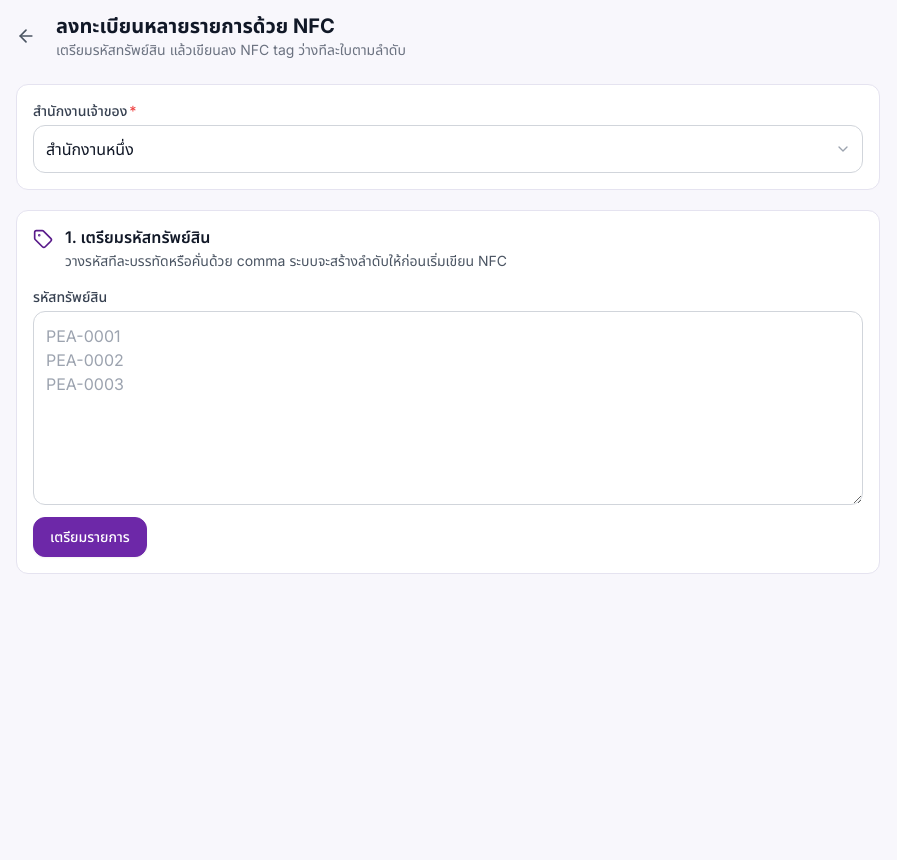
Test case: BatchRegisterPage — write blank NFC tags before registration › does not write a code that already exists in the registry
Type "PEA-1" into the text box labelled "รหัสทรัพย์สิน" at (448, 408), box [33,311,863,505]
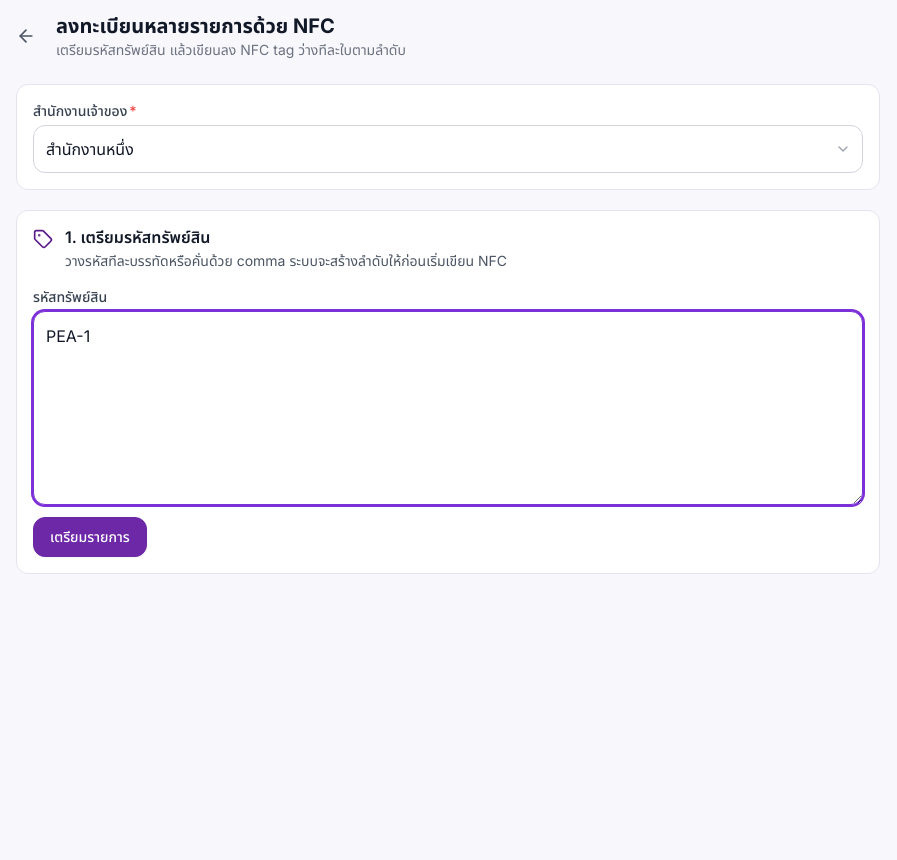
Click the button "เตรียมรายการ" at (90, 537), box [33,517,147,557]
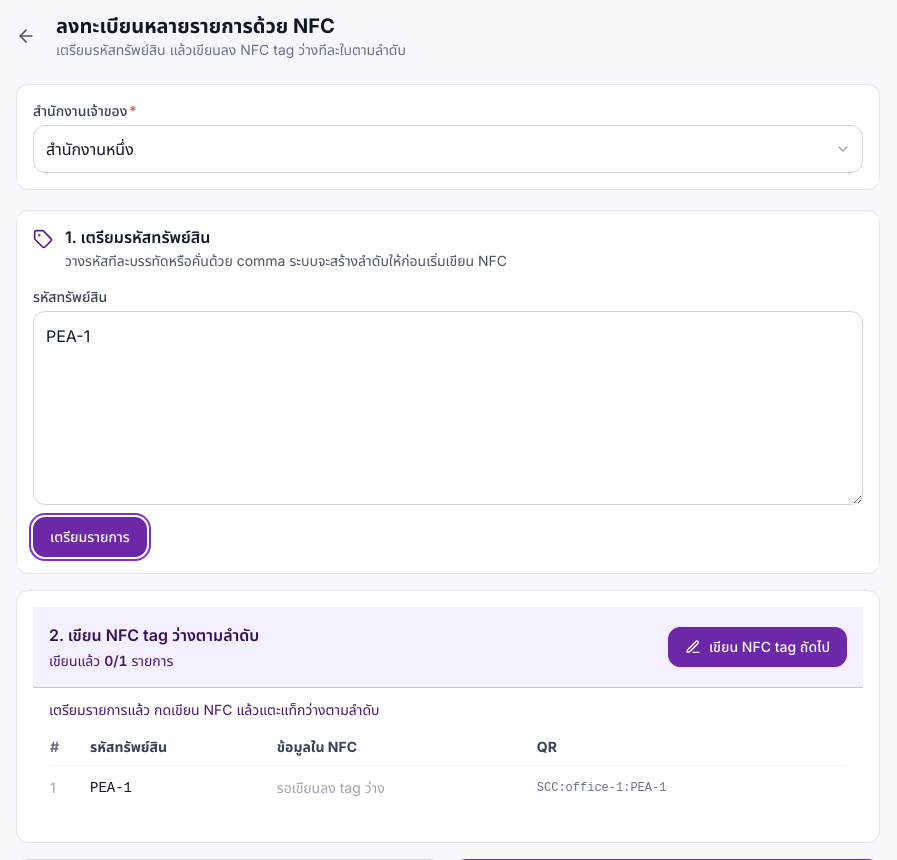
Click the button "เขียน NFC tag ถัดไป" at (758, 647), box [668,627,847,667]
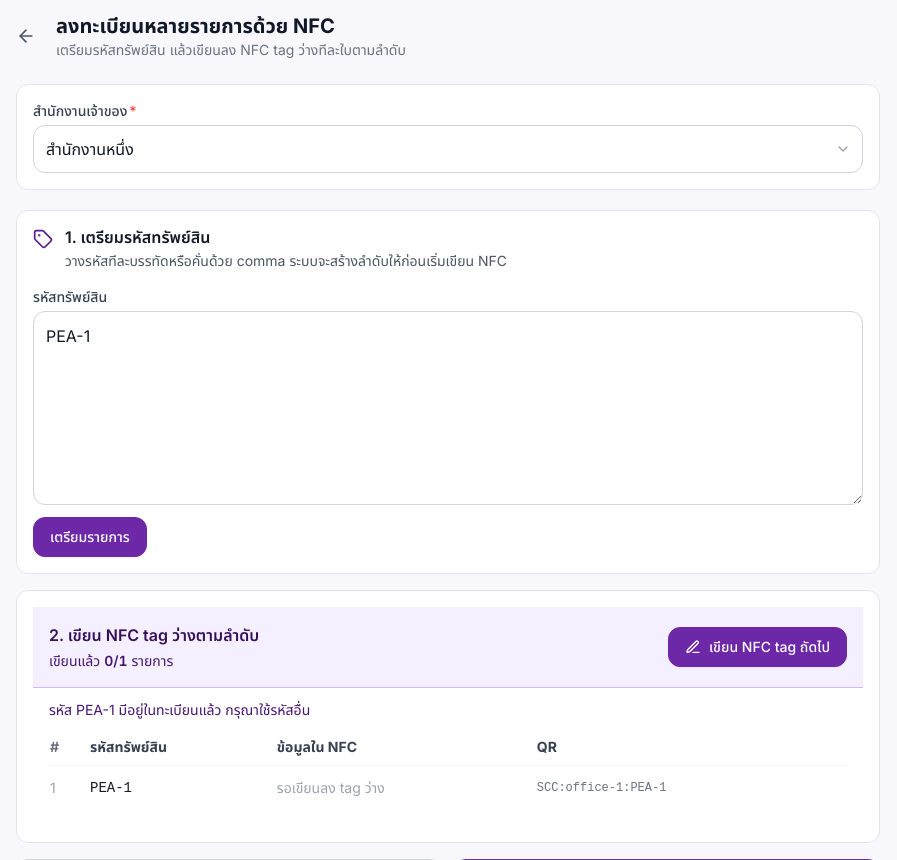
Now the text "รหัส PEA-1 มีอยู่ในทะเบียนแล้ว กรุณาใช้รหัสอื่น" is shown, box [49,701,310,718]
